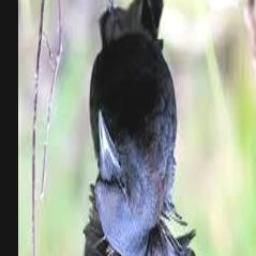Crow: (41, 0, 256, 256)
